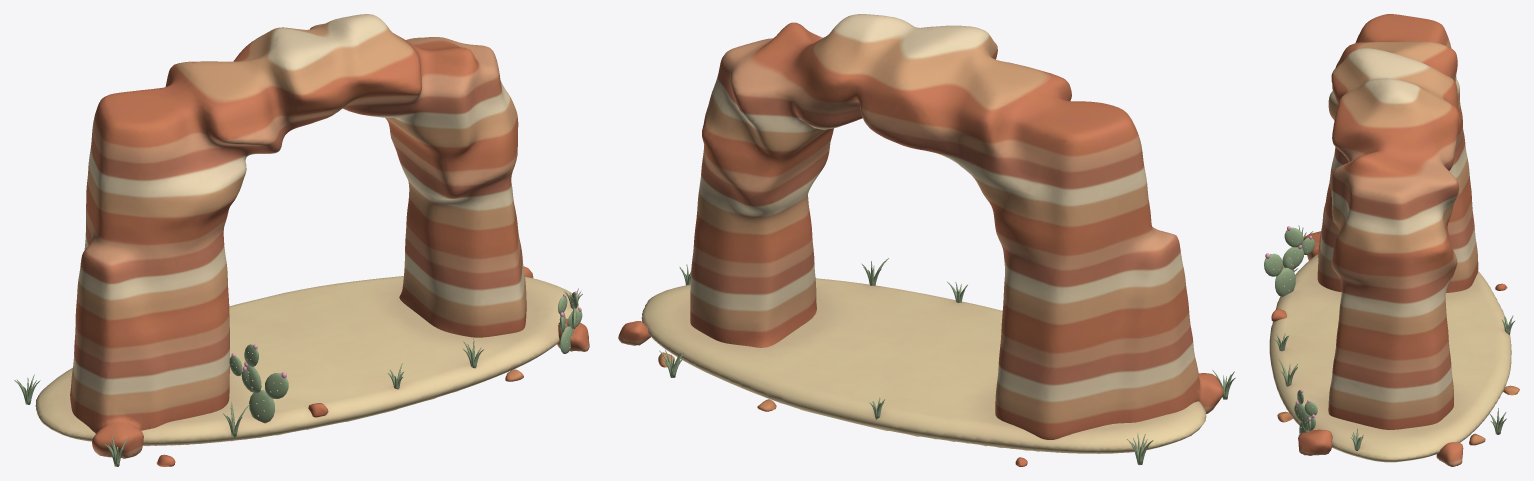
Rendered from grab3d-desert-rock-arch.glb.
The picture shows the model from 3 angles, left to right: view 1: azimuth 30°, elevation 25°; view 2: azimuth 150°, elevation 25°; view 3: azimuth 270°, elevation 25°; orthographic projection. The views are drawn at different scales.
Parts seen in each view (by area): view 1: desert-rock-arch_body; view 2: desert-rock-arch_body; view 3: desert-rock-arch_body.
Boxes of the visible parts, left/top/right/bottom form: desert-rock-arch_body: left=14, top=14, right=589, bottom=466; desert-rock-arch_body: left=618, top=14, right=1235, bottom=466; desert-rock-arch_body: left=1264, top=14, right=1519, bottom=466.
Size of the model in its own units: 8.53 by 5.21 by 4.09.
Materials: 1 (1 with a texture image).
